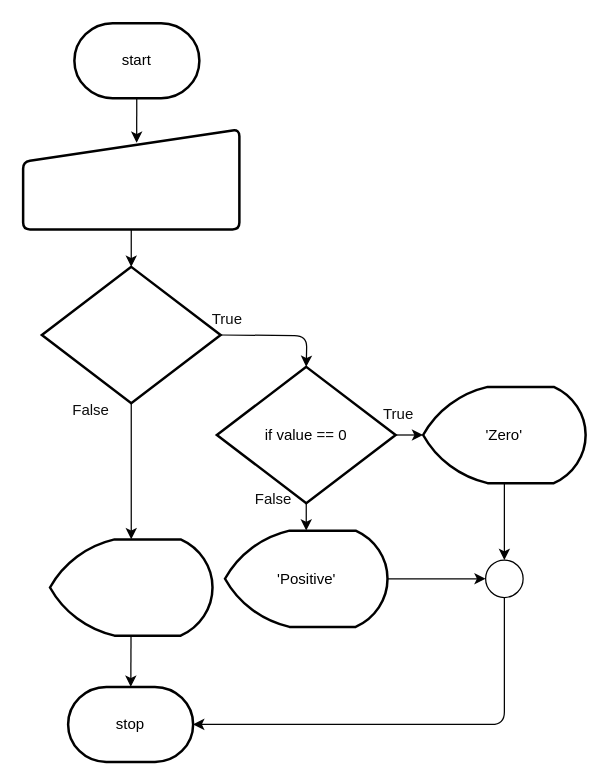
Image size: 608x784. Some labels were removed from this diagram. The shapes that lost their labels are listed below. From the top down, each one's centre as x and y in pixels, then its label:
(x=130, y=179): promp"Enter a number: " and assign to value
(x=130, y=334): value >= 0
(x=130, y=587): 'Negative'
